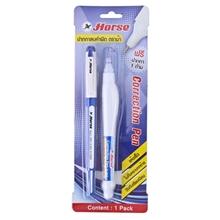Correction_fluid: (97, 45, 123, 203)
